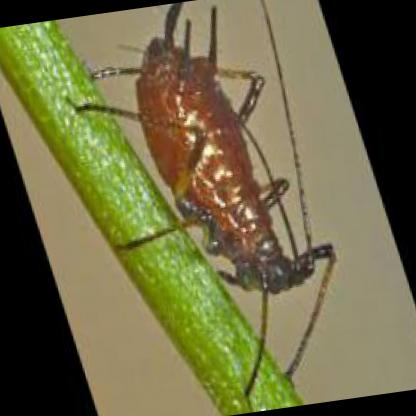uroleucon compositae: (84, 6, 331, 296)
